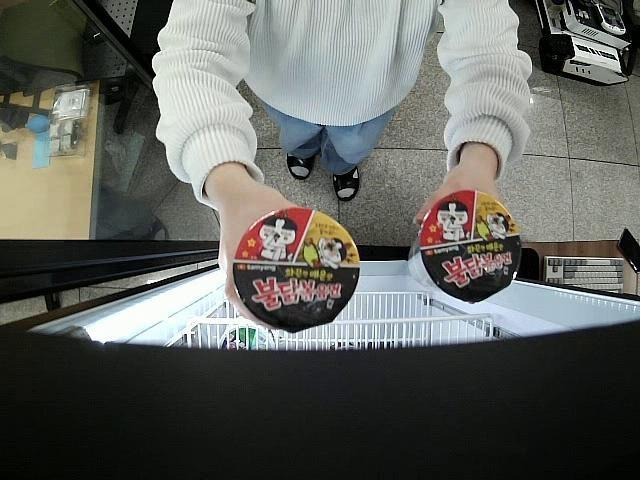08_buldak_S: (235, 209, 360, 330), (406, 191, 522, 304)
